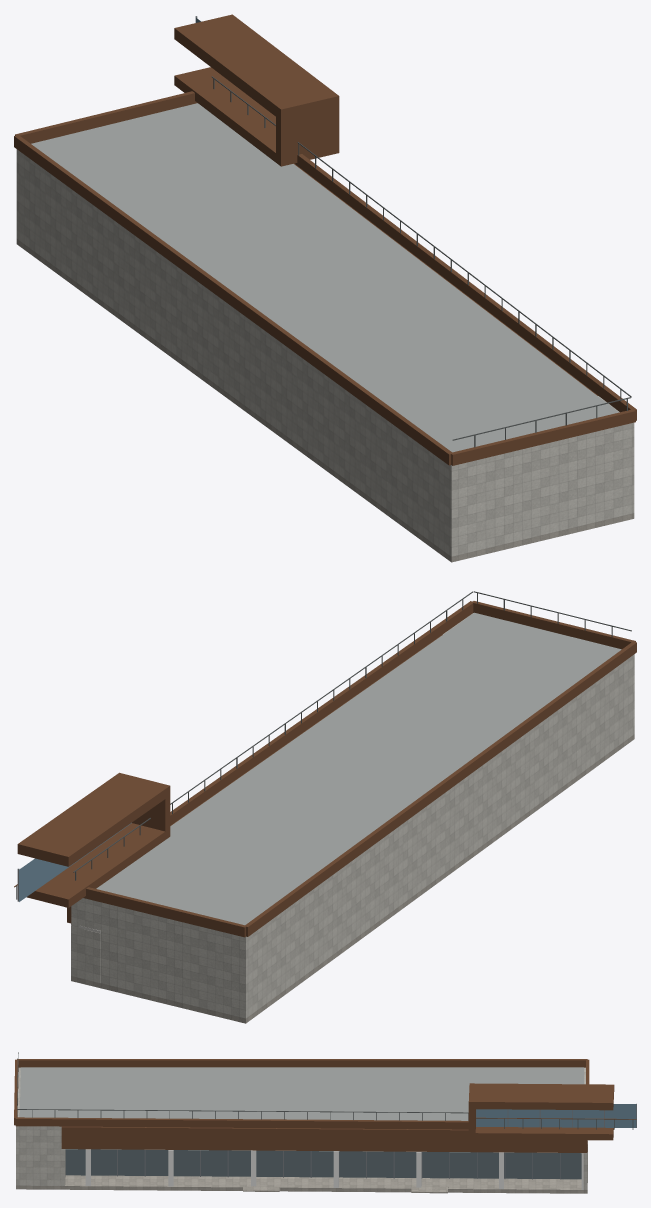
3 renders of one model, top to bottom at view 1: azimuth 30°, elevation 25°; view 2: azimuth 150°, elevation 25°; view 3: azimuth 270°, elevation 25°, orthographic. The views are drawn at different scales.
Parts seen in each view (by area): view 1: main-east__roof, main-east__panel, main-east__brown, main-east__stone, main-east__rail; view 2: main-east__roof, main-east__panel, main-east__brown, main-east__stone, main-east__rail, main-east__glass; view 3: main-east__brown, main-east__roof, main-east__lowglass, main-east__stone, main-east__panel, main-east__glass, main-east__white, main-east__rail, main-east__frame, main-east__threshold-cafe, main-east__threshold-lobby, main-east__soffit.
Boxes of the visible parts, x1,y1,x2,y2 form: main-east__roof: [31, 103, 618, 452]; main-east__panel: [16, 149, 634, 556]; main-east__brown: [14, 14, 636, 465]; main-east__stone: [16, 239, 634, 562]; main-east__rail: [211, 76, 631, 447]; main-east__roof: [96, 612, 621, 925]; main-east__panel: [71, 613, 634, 1018]; main-east__brown: [14, 601, 636, 937]; main-east__stone: [71, 734, 634, 1023]; main-east__rail: [16, 591, 631, 899]; main-east__glass: [19, 822, 131, 901]; main-east__brown: [14, 1059, 636, 1152]; main-east__roof: [19, 1067, 583, 1120]; main-east__lowglass: [65, 1149, 581, 1179]; main-east__stone: [16, 1175, 587, 1193]; main-east__panel: [16, 1067, 587, 1189]; main-east__glass: [476, 1104, 636, 1127]; main-east__white: [85, 1149, 583, 1189]; main-east__rail: [17, 1052, 633, 1129]; main-east__frame: [117, 1149, 560, 1179]; main-east__threshold-cafe: [411, 1186, 448, 1193]; main-east__threshold-lobby: [243, 1184, 279, 1191]; main-east__soffit: [62, 1141, 587, 1153].
Bounding box in the file's own units: 15.71 × 9.96 × 54.28.
Materials: 11 (2 with a texture image).
